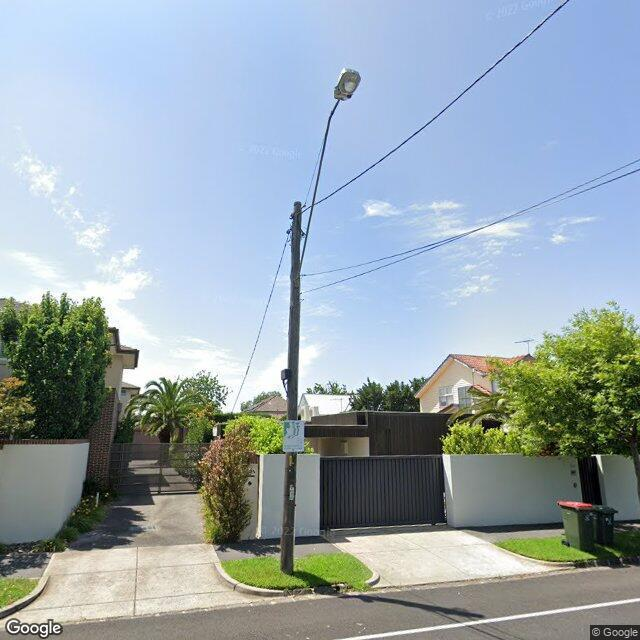streetlight: (295, 68, 362, 286)
timber-pole: (281, 201, 301, 575)
